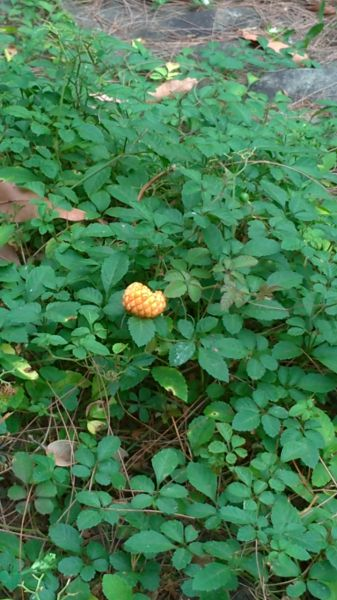eggs: (119, 275, 170, 321)
